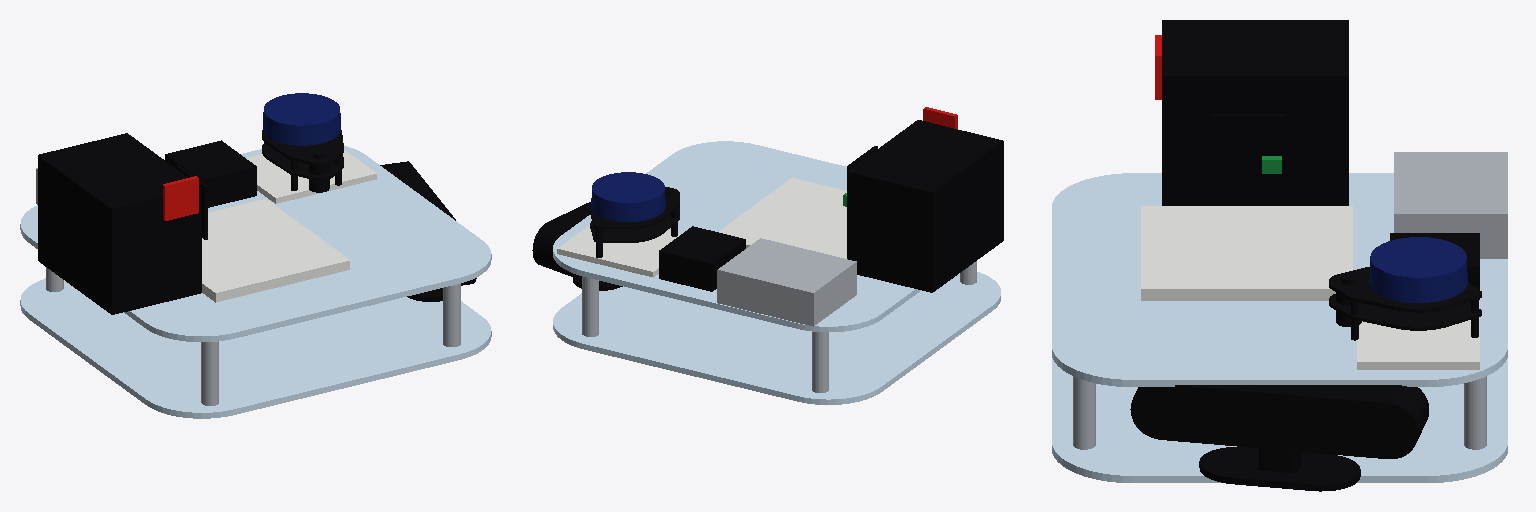
URDF robot description (kobuki_x2):
<?xml version="1.0"?>
<!-- The team's robot as built (final build, photos 31 Oct 2026): Kobuki + two acrylic decks + YDLIDAR X2 + SO-100 + ASUS Xtion.
     base_link = floor under the robot centre, +X = Kobuki front (bumper side, the way it drives), +Y = left.
     The Kobuki port panel (USB, B0/B1/B2) is the REAR, with the arm battery and the DC-DC converter. The SO-100 and the
     Xtion work out of the FRONT (the yellow "middle" tape marks the centre line there), so the robot drives forward up
     to the object; mission_nav2.py reads that from so100_mount_joint.
     Kobuki and SO-100 are the makers' CAD files; the other parts are sized from datasheets and the photos
     (meshes/NOTICE.txt). Every position marked MEASURE is a photo estimate: measure it on demo day and change it here.
     Mesh paths start with MESH_URI; robot_model.launch.py swaps it for this folder's meshes/ path. -->
<robot name="kobuki_x2">
  <material name="arm_printed"><color rgba="0.09 0.09 0.10 1"/></material>
  <material name="arm_servo"><color rgba="0.16 0.16 0.17 1"/></material>
  <material name="lidar_black"><color rgba="0.08 0.08 0.09 1"/></material>
  <material name="lidar_navy"><color rgba="0.10 0.16 0.42 1"/></material>
  <material name="acrylic"><color rgba="0.82 0.90 0.96 0.40"/></material>
  <material name="white_plastic"><color rgba="0.93 0.93 0.91 1"/></material>
  <material name="aluminium"><color rgba="0.72 0.74 0.77 1"/></material>
  <material name="black"><color rgba="0.07 0.07 0.08 1"/></material>
  <material name="battery_red"><color rgba="0.85 0.12 0.10 1"/></material>
  <material name="terminal_green"><color rgba="0.15 0.60 0.30 1"/></material>

  <link name="base_link">
    <!-- Yujin Kobuki body (kobuki_description main_body.dae, placed like kobuki.urdf.xacro: base_joint z 0.0102 + visual z 0.05199).
         Keep it the only visual here: RViz colours a link from its first visual, which would paint over the texture. -->
    <visual>
      <origin xyz="0.001 0 0.06219" rpy="0 0 0"/>
      <geometry><mesh filename="MESH_URI/kobuki/main_body.dae"/></geometry>
    </visual>
  </link>

  <!-- Deck parts, one link per colour (RViz paints all visuals of a link with the first visual's material). -->
  <!-- Two acrylic decks. MEASURE: bottom deck top 0.135 m, middle deck top 0.200 m (60 mm aluminium standoffs between them,
       from the photo where the 180 mm Xtion fits under the middle deck) -->
  <link name="decks">
    <visual><origin xyz="-0.005 0 0.1325" rpy="0 0 0"/><geometry><mesh filename="MESH_URI/deck_plate.stl"/></geometry><material name="acrylic"/></visual>
    <visual><origin xyz="-0.005 0 0.1975" rpy="0 0 0"/><geometry><mesh filename="MESH_URI/deck_plate.stl"/></geometry><material name="acrylic"/></visual>
  </link>
  <joint name="decks_joint" type="fixed">
    <parent link="base_link"/><child link="decks"/>
    <origin xyz="0 0 0" rpy="0 0 0"/>
  </joint>
  <!-- four aluminium standoffs + the finned DC-DC converter (arm power) on the middle deck, rear left. MEASURE -->
  <link name="standoffs">
    <visual><origin xyz="0.10 0.12 0.165" rpy="0 0 0"/><geometry><cylinder radius="0.007" length="0.06"/></geometry><material name="aluminium"/></visual>
    <visual><origin xyz="0.10 -0.12 0.165" rpy="0 0 0"/><geometry><cylinder radius="0.007" length="0.06"/></geometry><material name="aluminium"/></visual>
    <visual><origin xyz="-0.115 0.12 0.165" rpy="0 0 0"/><geometry><cylinder radius="0.007" length="0.06"/></geometry><material name="aluminium"/></visual>
    <visual><origin xyz="-0.115 -0.12 0.165" rpy="0 0 0"/><geometry><cylinder radius="0.007" length="0.06"/></geometry><material name="aluminium"/></visual>
    <visual><origin xyz="-0.075 0.105 0.2155" rpy="0 0 0"/><geometry><box size="0.09 0.07 0.03"/></geometry><material name="aluminium"/></visual>
  </link>
  <joint name="standoffs_joint" type="fixed">
    <parent link="base_link"/><child link="standoffs"/>
    <origin xyz="0 0 0" rpy="0 0 0"/>
  </joint>
  <!-- white plate under the arm (deck centre), white bracket under the LiDAR (front left) -->
  <link name="white_plates">
    <visual><origin xyz="-0.03 -0.02 0.204" rpy="0 0 0"/><geometry><box size="0.12 0.13 0.008"/></geometry><material name="white_plastic"/></visual>
    <visual><origin xyz="0.085 0.085 0.2025" rpy="0 0 0"/><geometry><box size="0.09 0.075 0.005"/></geometry><material name="white_plastic"/></visual>
  </link>
  <joint name="white_plates_joint" type="fixed">
    <parent link="base_link"/><child link="white_plates"/>
    <origin xyz="0 0 0" rpy="0 0 0"/>
  </joint>
  <!-- PINSEN 40000 mAh tool battery (with its adapter on top) standing right behind the arm at the rear, servo bus board
       on the back of the arm base, LiDAR USB adapter box (UGREEN cable) on the left of the middle deck. MEASURE -->
  <link name="battery">
    <visual><origin xyz="-0.135 -0.015 0.249" rpy="0 0 0"/><geometry><box size="0.08 0.115 0.09"/></geometry><material name="black"/></visual>
    <visual><origin xyz="-0.0735 -0.02 0.255" rpy="0 0 0"/><geometry><box size="0.003 0.045 0.045"/></geometry><material name="black"/></visual>
    <visual><origin xyz="0.01 0.095 0.2125" rpy="0 0 0"/><geometry><box size="0.05 0.055 0.025"/></geometry><material name="black"/></visual>
  </link>
  <joint name="battery_joint" type="fixed">
    <parent link="base_link"/><child link="battery"/>
    <origin xyz="0 0 0" rpy="0 0 0"/>
  </joint>
  <!-- the battery's red power button, on its right side -->
  <link name="battery_button">
    <visual><origin xyz="-0.115 -0.0745 0.29" rpy="0 0 0"/><geometry><box size="0.03 0.004 0.03"/></geometry><material name="battery_red"/></visual>
  </link>
  <joint name="battery_button_joint" type="fixed">
    <parent link="base_link"/><child link="battery_button"/>
    <origin xyz="0 0 0" rpy="0 0 0"/>
  </joint>
  <!-- green power terminal on the servo bus board -->
  <link name="servo_terminal">
    <visual><origin xyz="-0.0715 -0.005 0.245" rpy="0 0 0"/><geometry><box size="0.008 0.012 0.01"/></geometry><material name="terminal_green"/></visual>
  </link>
  <joint name="servo_terminal_joint" type="fixed">
    <parent link="base_link"/><child link="servo_terminal"/>
    <origin xyz="0 0 0" rpy="0 0 0"/>
  </joint>

  <!-- wheels (fixed: only for looks; odometry comes from kobuki_ros2.py) -->
  <link name="wheel_left_link">
    <visual>
      <origin xyz="0 0 0" rpy="-1.5708 0 0"/>
      <geometry><mesh filename="MESH_URI/kobuki/wheel.dae"/></geometry>
    </visual>
  </link>
  <joint name="wheel_left_joint" type="fixed">
    <parent link="base_link"/><child link="wheel_left_link"/>
    <origin xyz="0 0.115 0.035" rpy="0 0 0"/>
  </joint>
  <link name="wheel_right_link">
    <visual>
      <origin xyz="0 0 0" rpy="-1.5708 0 0"/>
      <geometry><mesh filename="MESH_URI/kobuki/wheel.dae"/></geometry>
    </visual>
  </link>
  <joint name="wheel_right_joint" type="fixed">
    <parent link="base_link"/><child link="wheel_right_link"/>
    <origin xyz="0 -0.115 0.035" rpy="0 0 0"/>
  </joint>

  <!-- YDLIDAR X2 on the middle deck, front left, on its white bracket.
       Frame name must stay "laser" (= /scan frame_id). MEASURE x, y, z (laser centre = 7.9 mm under the top of the cap). -->
  <link name="laser">
    <visual>
      <origin xyz="0 0 0" rpy="0 0 1.5708"/>
      <geometry><mesh filename="MESH_URI/ydlidar_x2_base.stl"/></geometry>
      <material name="lidar_black"/>
    </visual>
  </link>
  <joint name="laser_joint" type="fixed">
    <parent link="base_link"/><child link="laser"/>
    <!-- yaw 168 deg + the driver's mirror option: calibrated on the real robot in the final build (lidar_calib.py, 1 Nov:
         yaw=168 mirrored=False with the driver's mirror option on). Re-run lidar_calib.py if the LiDAR is turned on its
         bracket. No double hyphen inside these comments: Python's XML parser then rejects the whole file -->

    <origin xyz="0.085 0.085 0.247" rpy="0 0 2.9322"/>
  </joint>
  <!-- the spinning navy cap (own link: its own colour) -->
  <link name="laser_cap">
    <visual>
      <origin xyz="0 0 0" rpy="0 0 1.5708"/>
      <geometry><mesh filename="MESH_URI/ydlidar_x2_top.stl"/></geometry>
      <material name="lidar_navy"/>
    </visual>
  </link>
  <joint name="laser_cap_joint" type="fixed">
    <parent link="laser"/><child link="laser_cap"/>
    <origin xyz="0 0 0" rpy="0 0 0"/>
  </joint>

  <!-- ASUS Xtion PRO LIVE standing on the bottom deck at its front edge, under the yellow "middle" tape, looking forward
       (level in the photos), under the arm's jaws.
       MEASURE the height and how much it is tilted down; camera_check.py fixes the tilt/turn from a tape measurement. -->
  <link name="camera_link">
    <visual>
      <origin xyz="0 0 0" rpy="0 0 0"/>
      <geometry><mesh filename="MESH_URI/xtion.stl"/></geometry>
      <material name="black"/>
    </visual>
  </link>
  <joint name="camera_joint" type="fixed">
    <parent link="base_link"/><child link="camera_link"/>
    <!-- body centre 42.5 mm above the bottom deck; yaw 0 = looking forward; pitch = tilt down (rad). MEASURE x, z -->
    <!-- 1 Nov: pitch and yaw from camera_check.py with the cube 0.65 m ahead (the parking distance). Closer than ~0.55 m
         the cube is cut off at the bottom of the image and reads too far, so do not calibrate there -->
    <origin xyz="0.14 0 0.1775" rpy="0 0.004 -0.199"/>
  </joint>
  <!-- colour lens (right end of the face as seen from behind the robot - estimate) -> optical frame: z forward, x right, y down -->
  <link name="camera_color_optical_frame"/>
  <joint name="camera_optical_joint" type="fixed">
    <parent link="camera_link"/><child link="camera_color_optical_frame"/>
    <origin xyz="0.0175 0.045 0" rpy="-1.5708 0 -1.5708"/>
  </joint>

  <!-- SO-100 arm (black prints, as built): links and joints copied from MuJoCo Menagerie trs_so_arm100/so_arm100.xml.
       Joint angles follow that file (0 = arm lying straight out); LeRobot's calibrated readings need converting first. -->
  <link name="so100_base">
    <visual><geometry><mesh filename="MESH_URI/so100/Base.stl"/></geometry><material name="arm_printed"/></visual>
    <visual><geometry><mesh filename="MESH_URI/so100/Base_Motor.stl"/></geometry><material name="arm_servo"/></visual>
  </link>
  <joint name="so100_mount_joint" type="fixed">
    <parent link="base_link"/><child link="so100_base"/>
    <!-- on the white plate at the deck centre, a little right and back, battery behind it; yaw +90 deg = the arm reaches
         out of the front (final build, 31 Oct). z 0.208 checked on the real arm (plate top 21 cm). MEASURE x, y -->
    <origin xyz="-0.03 -0.02 0.208" rpy="0 0 1.5708"/>
  </joint>

  <link name="so100_shoulder">
    <visual><geometry><mesh filename="MESH_URI/so100/Rotation_Pitch.stl"/></geometry><material name="arm_printed"/></visual>
    <visual><geometry><mesh filename="MESH_URI/so100/Rotation_Pitch_Motor.stl"/></geometry><material name="arm_servo"/></visual>
  </link>
  <joint name="shoulder_pan" type="revolute">
    <parent link="so100_base"/><child link="so100_shoulder"/>
    <origin xyz="0 -0.0452 0.0165" rpy="1.5708 0 0"/>
    <axis xyz="0 1 0"/>
    <limit lower="-1.92" upper="1.92" effort="3.5" velocity="3.0"/>
  </joint>

  <link name="so100_upper_arm">
    <visual><geometry><mesh filename="MESH_URI/so100/Upper_Arm.stl"/></geometry><material name="arm_printed"/></visual>
    <visual><geometry><mesh filename="MESH_URI/so100/Upper_Arm_Motor.stl"/></geometry><material name="arm_servo"/></visual>
  </link>
  <joint name="shoulder_lift" type="revolute">
    <parent link="so100_shoulder"/><child link="so100_upper_arm"/>
    <origin xyz="0 0.1025 0.0306" rpy="1.57079 0 0"/>
    <axis xyz="1 0 0"/>
    <limit lower="-3.32" upper="0.174" effort="3.5" velocity="3.0"/>
  </joint>

  <link name="so100_lower_arm">
    <visual><geometry><mesh filename="MESH_URI/so100/Lower_Arm.stl"/></geometry><material name="arm_printed"/></visual>
    <visual><geometry><mesh filename="MESH_URI/so100/Lower_Arm_Motor.stl"/></geometry><material name="arm_servo"/></visual>
  </link>
  <joint name="elbow_flex" type="revolute">
    <parent link="so100_upper_arm"/><child link="so100_lower_arm"/>
    <origin xyz="0 0.11257 0.028" rpy="-1.57079 0 0"/>
    <axis xyz="1 0 0"/>
    <limit lower="-0.174" upper="3.14" effort="3.5" velocity="3.0"/>
  </joint>

  <link name="so100_wrist">
    <visual><geometry><mesh filename="MESH_URI/so100/Wrist_Pitch_Roll.stl"/></geometry><material name="arm_printed"/></visual>
    <visual><geometry><mesh filename="MESH_URI/so100/Wrist_Pitch_Roll_Motor.stl"/></geometry><material name="arm_servo"/></visual>
  </link>
  <joint name="wrist_flex" type="revolute">
    <parent link="so100_lower_arm"/><child link="so100_wrist"/>
    <origin xyz="0 0.0052 0.1349" rpy="-1.57079 0 0"/>
    <axis xyz="1 0 0"/>
    <limit lower="-1.66" upper="1.66" effort="3.5" velocity="3.0"/>
  </joint>

  <link name="so100_gripper">
    <visual><geometry><mesh filename="MESH_URI/so100/Fixed_Jaw.stl"/></geometry><material name="arm_printed"/></visual>
    <visual><geometry><mesh filename="MESH_URI/so100/Fixed_Jaw_Motor.stl"/></geometry><material name="arm_servo"/></visual>
  </link>
  <joint name="wrist_roll" type="revolute">
    <parent link="so100_wrist"/><child link="so100_gripper"/>
    <origin xyz="0 -0.0601 0" rpy="0 1.57079 0"/>
    <axis xyz="0 1 0"/>
    <limit lower="-2.79" upper="2.79" effort="3.5" velocity="3.0"/>
  </joint>

  <link name="so100_jaw">
    <visual><geometry><mesh filename="MESH_URI/so100/Moving_Jaw.stl"/></geometry><material name="arm_printed"/></visual>
  </link>
  <joint name="gripper" type="revolute">
    <parent link="so100_gripper"/><child link="so100_jaw"/>
    <origin xyz="-0.0202 -0.0244 0" rpy="3.14159 0 3.14159"/>
    <axis xyz="0 0 1"/>
    <limit lower="-0.174" upper="1.75" effort="3.5" velocity="3.0"/>
  </joint>

  <!-- point between the jaw pads: use it as the grasp target -->
  <link name="gripper_tip"/>
  <joint name="gripper_tip_joint" type="fixed">
    <parent link="so100_gripper"/><child link="gripper_tip"/>
    <origin xyz="0.001 -0.085 0" rpy="0 0 0"/>
  </joint>
</robot>

--- Facts derived from the render (not from the file) ---
The picture shows the robot from 3 angles, left to right: view 1: azimuth 30°, elevation 25°; view 2: azimuth 150°, elevation 25°; view 3: azimuth 270°, elevation 25°; orthographic projection.
Model kobuki_x2 with 21 links and 20 joints (6 revolute, 14 fixed), rooted at base_link, posed all joints at 0.
Visible links, largest first — view 1: decks, battery, white_plates, laser_cap, laser, standoffs, camera_link, battery_button; view 2: decks, battery, standoffs, white_plates, laser_cap, laser, camera_link; view 3: decks, battery, white_plates, camera_link, standoffs, laser_cap, laser.
Boxes of the visible links, left/top/right/bottom form: decks: left=20, top=146, right=491, bottom=418; battery: left=38, top=133, right=256, bottom=314; white_plates: left=202, top=150, right=376, bottom=302; laser_cap: left=263, top=93, right=340, bottom=145; laser: left=262, top=130, right=343, bottom=192; standoffs: left=36, top=168, right=460, bottom=405; camera_link: left=380, top=161, right=476, bottom=301; battery_button: left=163, top=176, right=198, bottom=220; decks: left=553, top=141, right=1000, bottom=404; battery: left=659, top=120, right=1003, bottom=292; standoffs: left=582, top=238, right=976, bottom=392; white_plates: left=557, top=178, right=846, bottom=277; laser_cap: left=591, top=172, right=665, bottom=221; laser: left=590, top=187, right=679, bottom=257; camera_link: left=532, top=202, right=622, bottom=290; decks: left=1052, top=173, right=1507, bottom=482; battery: left=1162, top=20, right=1479, bottom=299; white_plates: left=1141, top=206, right=1479, bottom=369; camera_link: left=1130, top=385, right=1428, bottom=491; standoffs: left=1073, top=152, right=1507, bottom=449; laser_cap: left=1369, top=237, right=1467, bottom=302; laser: left=1329, top=267, right=1481, bottom=340.
Bounding box of the posed robot: 0.3499 × 0.28 × 0.175 m (x, y, z).
5 mesh visuals loaded from 19 distinct referenced files (4 binary STL); not drawn: 16 (reference not matched to a file when rendering).
